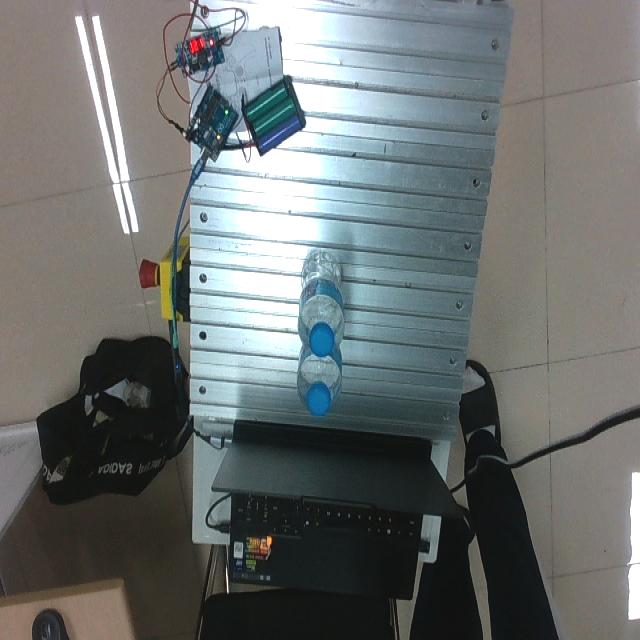lavie: (297, 252, 345, 359), (296, 340, 343, 416)
